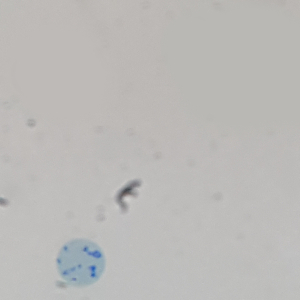aggregate reticulocyte: (53, 236, 107, 289)
